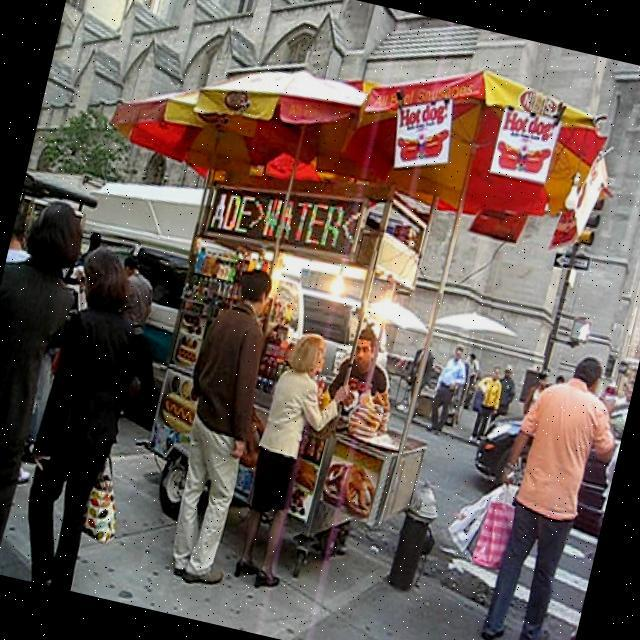fire_hydrant: (385, 474, 446, 594)
